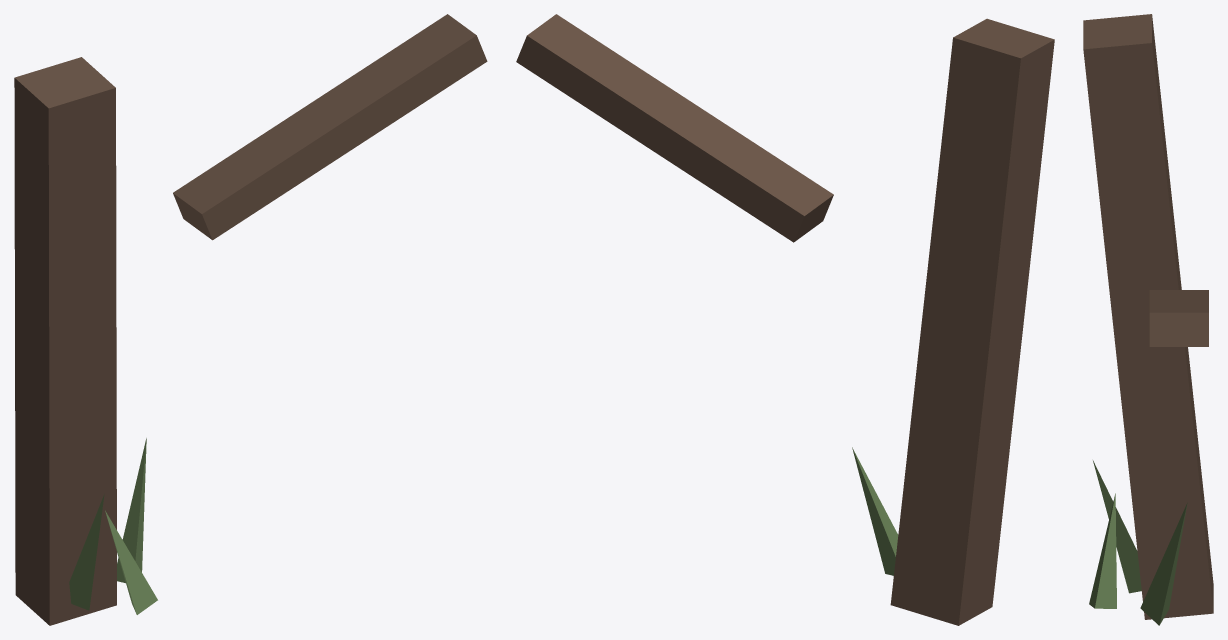
The model's file is fence_post.glb.
The picture shows the model from 3 angles, left to right: view 1: azimuth 30°, elevation 25°; view 2: azimuth 150°, elevation 25°; view 3: azimuth 270°, elevation 25°; orthographic projection.
Parts seen in each view (by area): view 1: fence_post; view 2: fence_post; view 3: fence_post.
Part boxes in pixels (bbox=[...]): fence_post: bbox=[14, 14, 487, 625]; fence_post: bbox=[516, 14, 1054, 625]; fence_post: bbox=[1083, 14, 1213, 625].
Bounding box in the file's own units: 1.12 × 1.27 × 0.2641.
